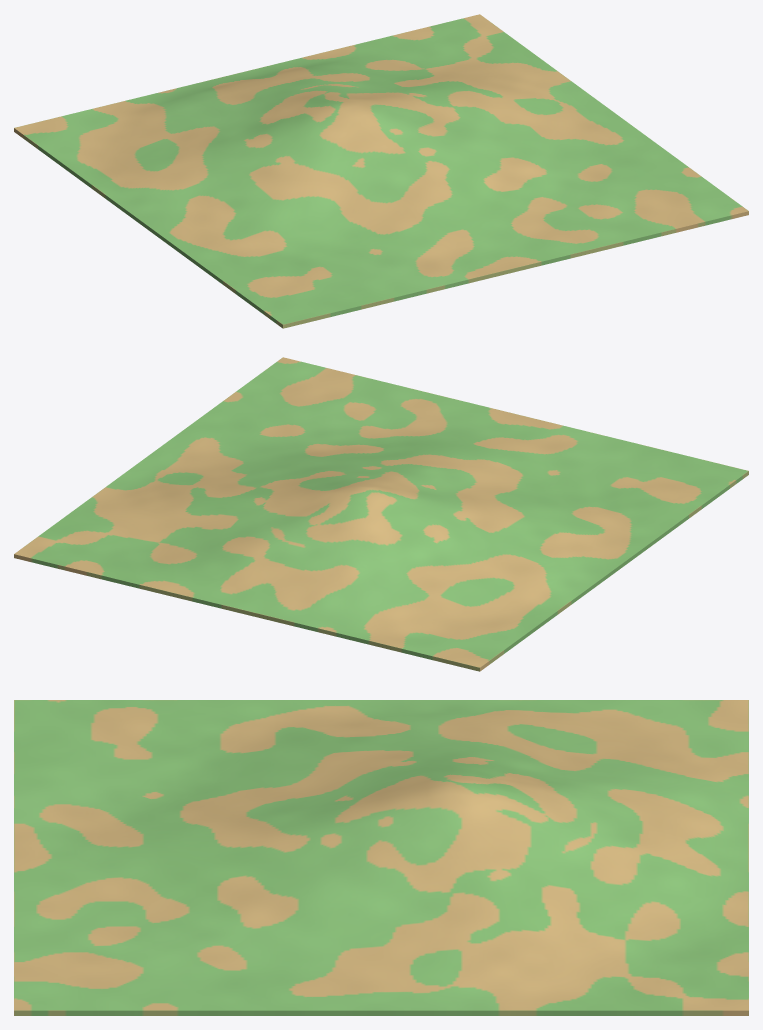
File: Grass_Hills_04.obj
The picture shows the model from 3 angles, top to bottom: view 1: azimuth 30°, elevation 25°; view 2: azimuth 150°, elevation 25°; view 3: azimuth 270°, elevation 25°; orthographic projection. The views are drawn at different scales.
Size of the model in its own units: 10 by 1.02 by 10.
1 material, 1 textured.
